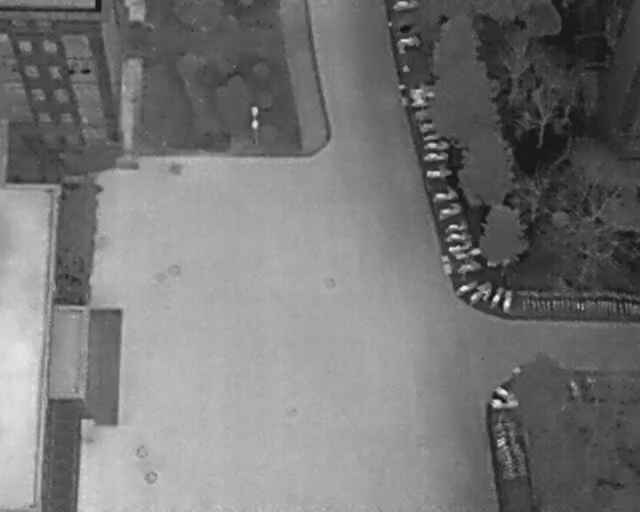Bicycle: (431, 199, 466, 224), (442, 226, 477, 248), (469, 281, 493, 307), (452, 278, 479, 300), (441, 218, 472, 237), (487, 283, 506, 311), (493, 382, 517, 403), (445, 240, 475, 254), (458, 258, 482, 274), (432, 188, 460, 201), (398, 35, 423, 48), (394, 0, 423, 11), (490, 398, 520, 408), (423, 151, 450, 162), (425, 168, 452, 177), (504, 287, 513, 312), (425, 140, 449, 149)
